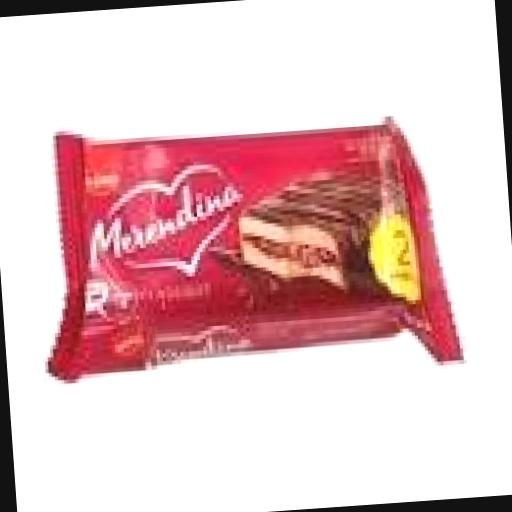merendina: (30, 84, 488, 424)
